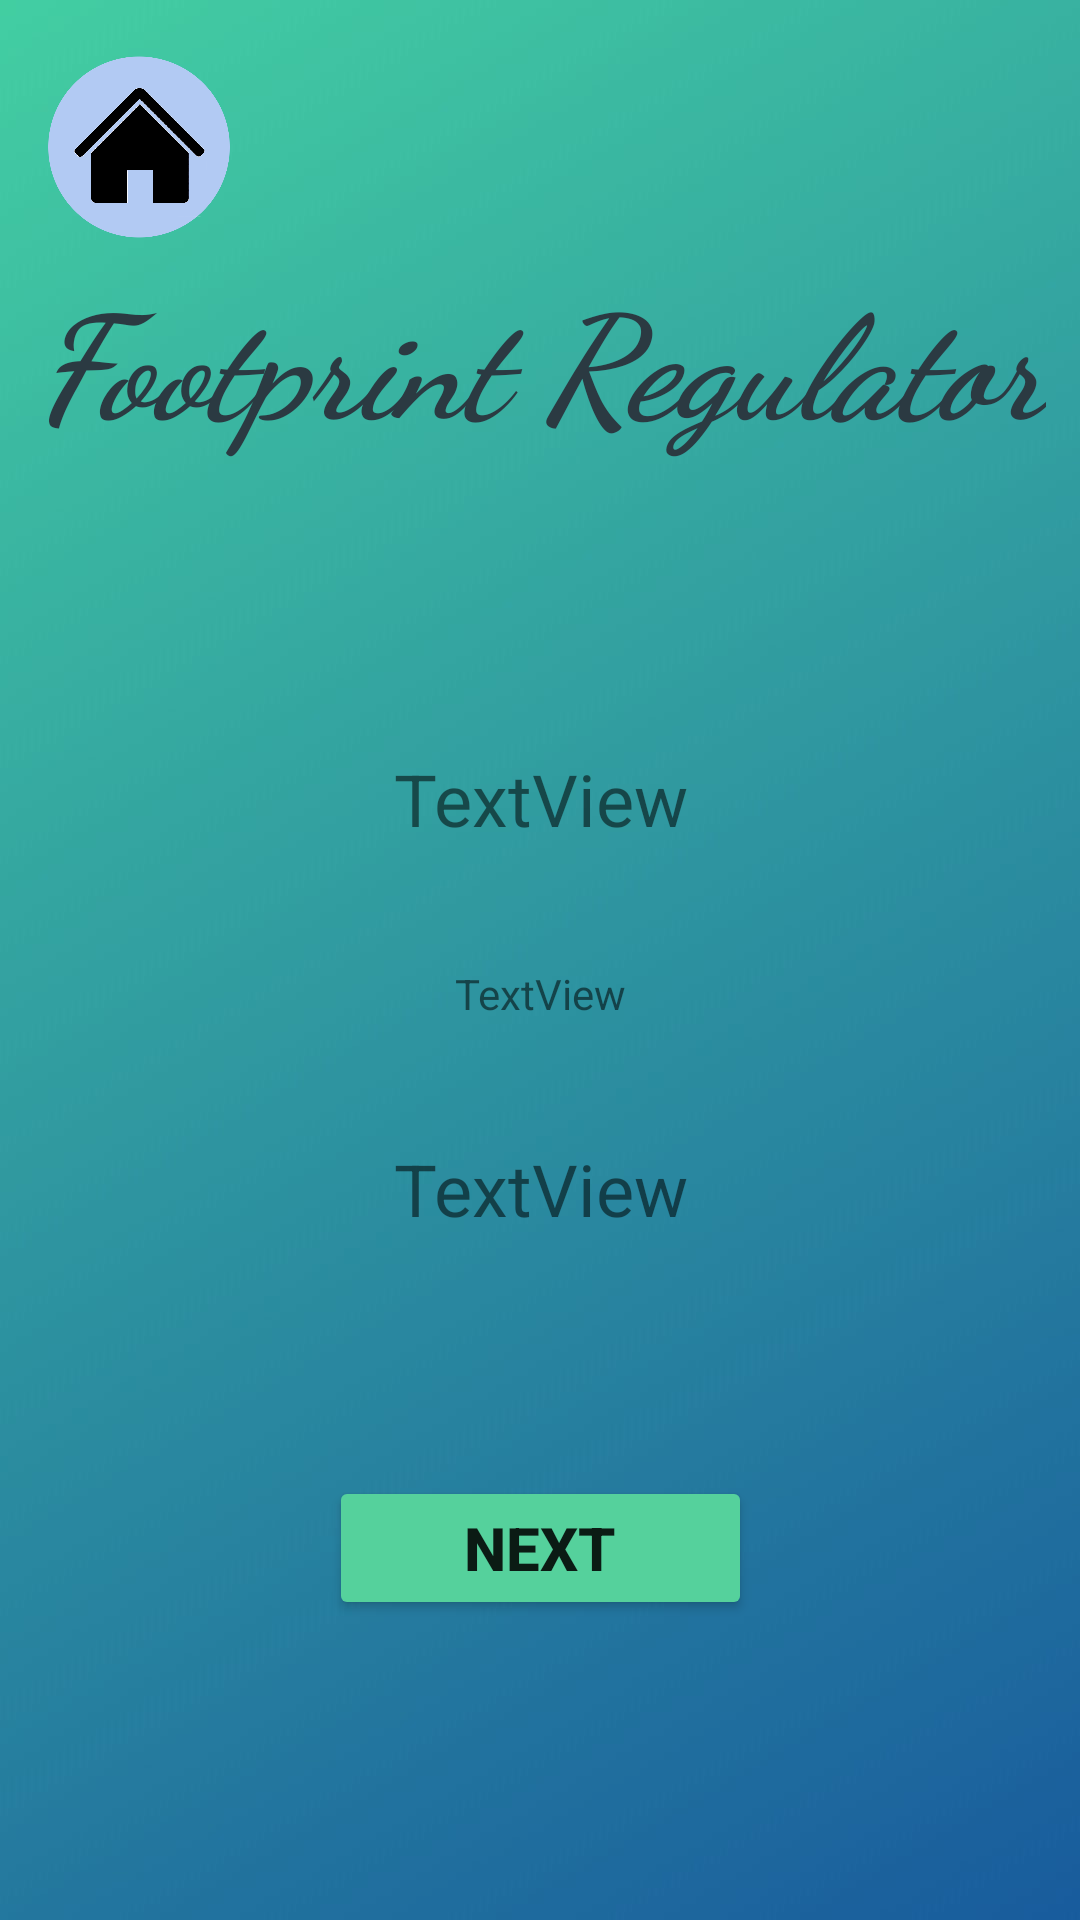

Icons on this 1080px×1920px Android screen, each with its box as (x1=x1, y1=y1, x2=x2, y2=y2):
home: (x1=48, y1=56, x2=230, y2=238)
